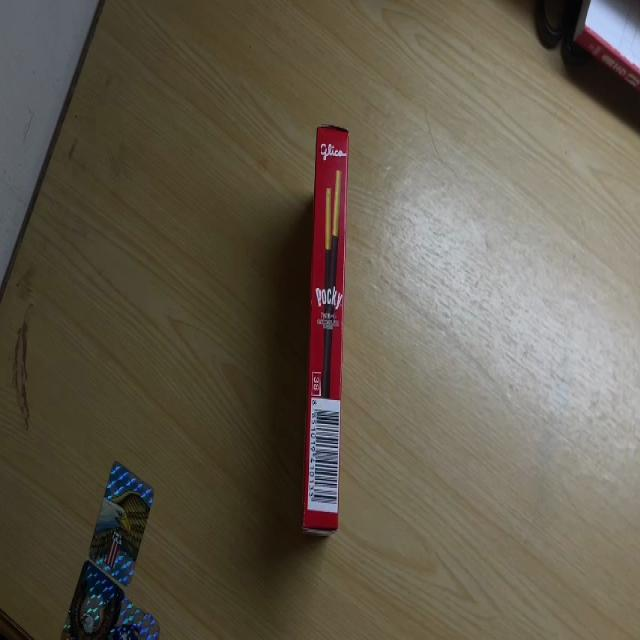Pocky: (302, 124, 350, 536)
